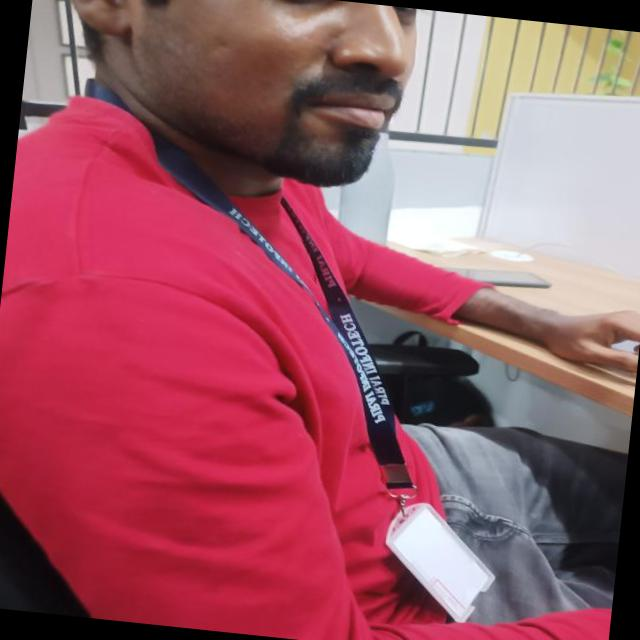id_card: (74, 87, 542, 620)
